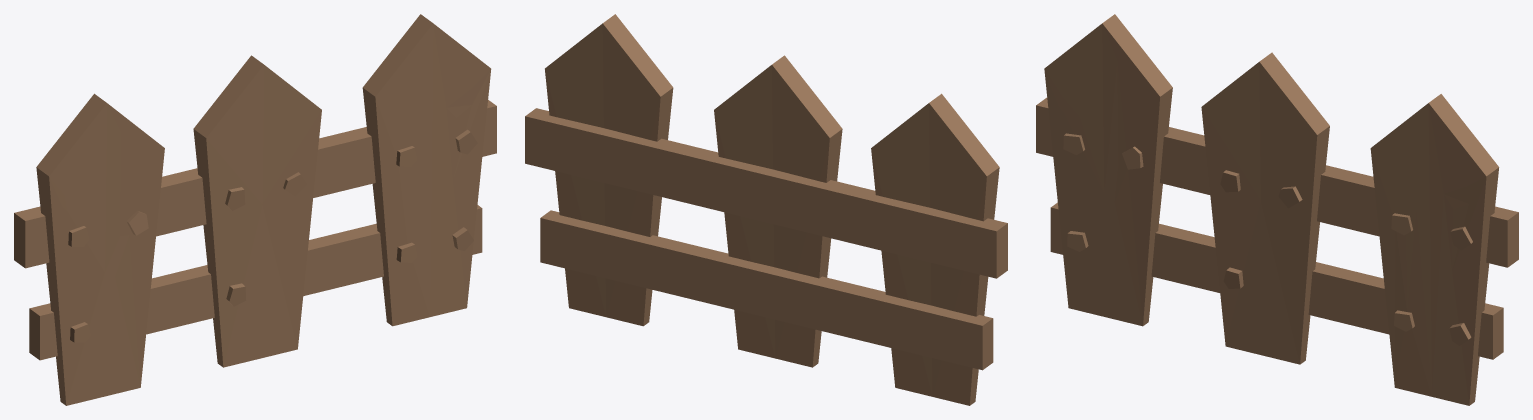
Rendered from fence.fbx.
The picture shows the model from 3 angles, left to right: view 1: azimuth 30°, elevation 25°; view 2: azimuth 150°, elevation 25°; view 3: azimuth 330°, elevation 25°; orthographic projection.
Parts seen in each view (by area): view 1: fence_1; view 2: fence_1; view 3: fence_1.
Boxes of the visible parts, x1,y1,x2,y2 form: fence_1: [14, 14, 496, 405]; fence_1: [525, 14, 1007, 405]; fence_1: [1036, 14, 1518, 405].
Size of the model in its own units: 105 by 63.02 by 7.99.
